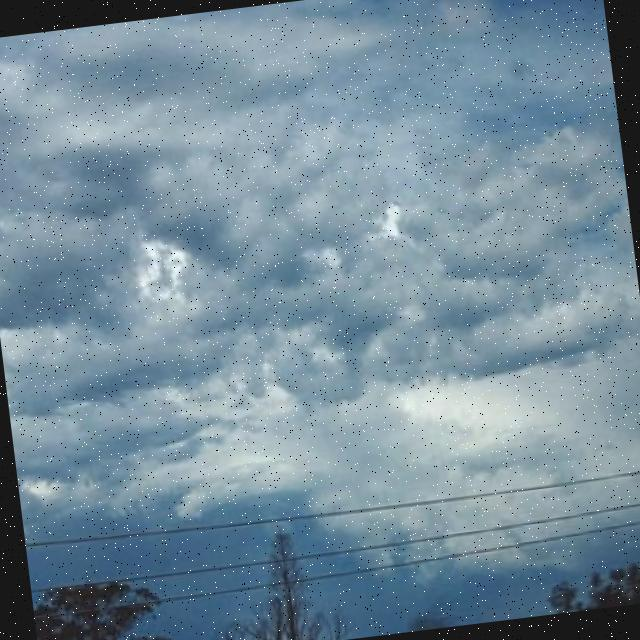Ac: (1, 1, 640, 503)
